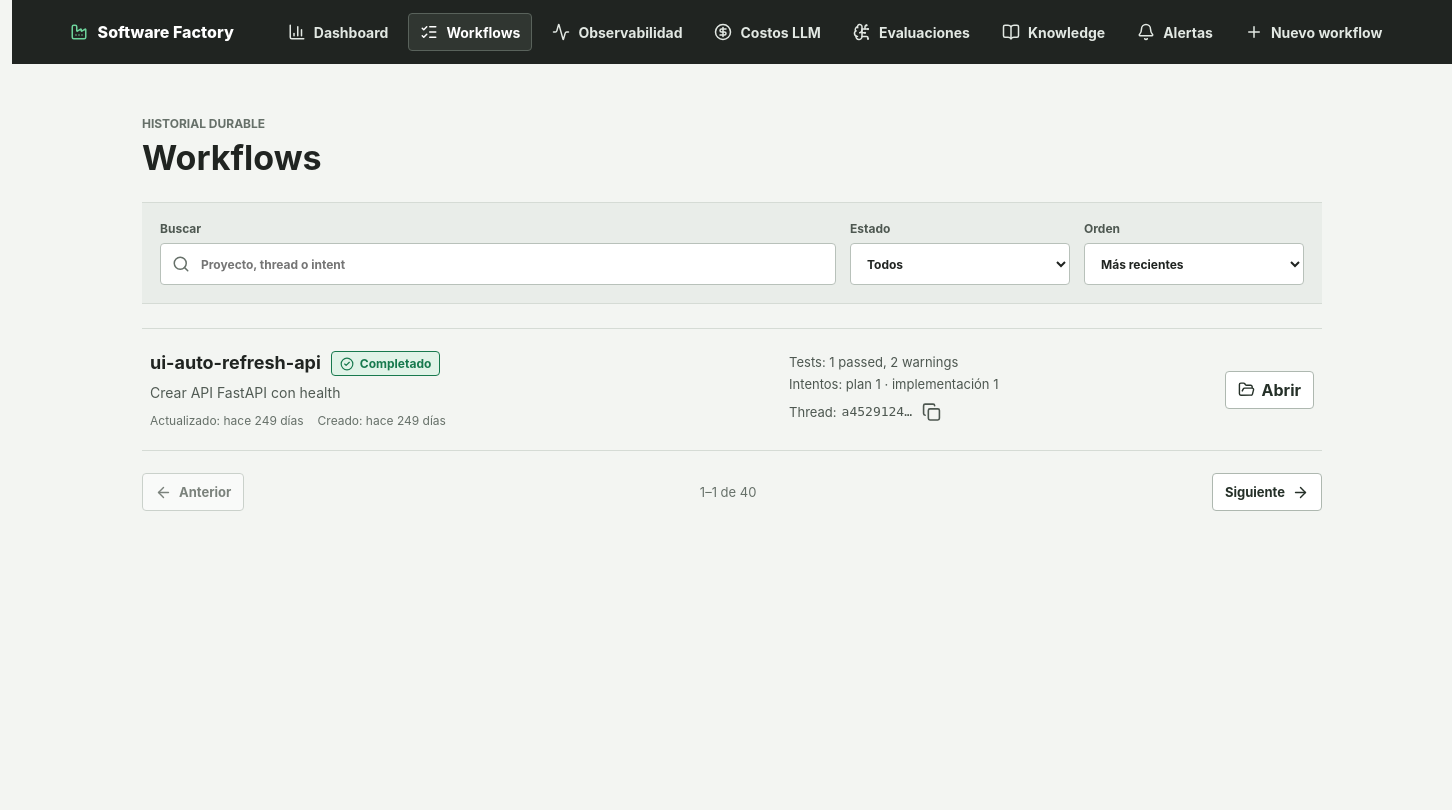
Test: workflow list › moves to next and previous pages
Click the button "Siguiente".
click(1267, 492)  # box x1=1212 y1=473 x2=1322 y2=511
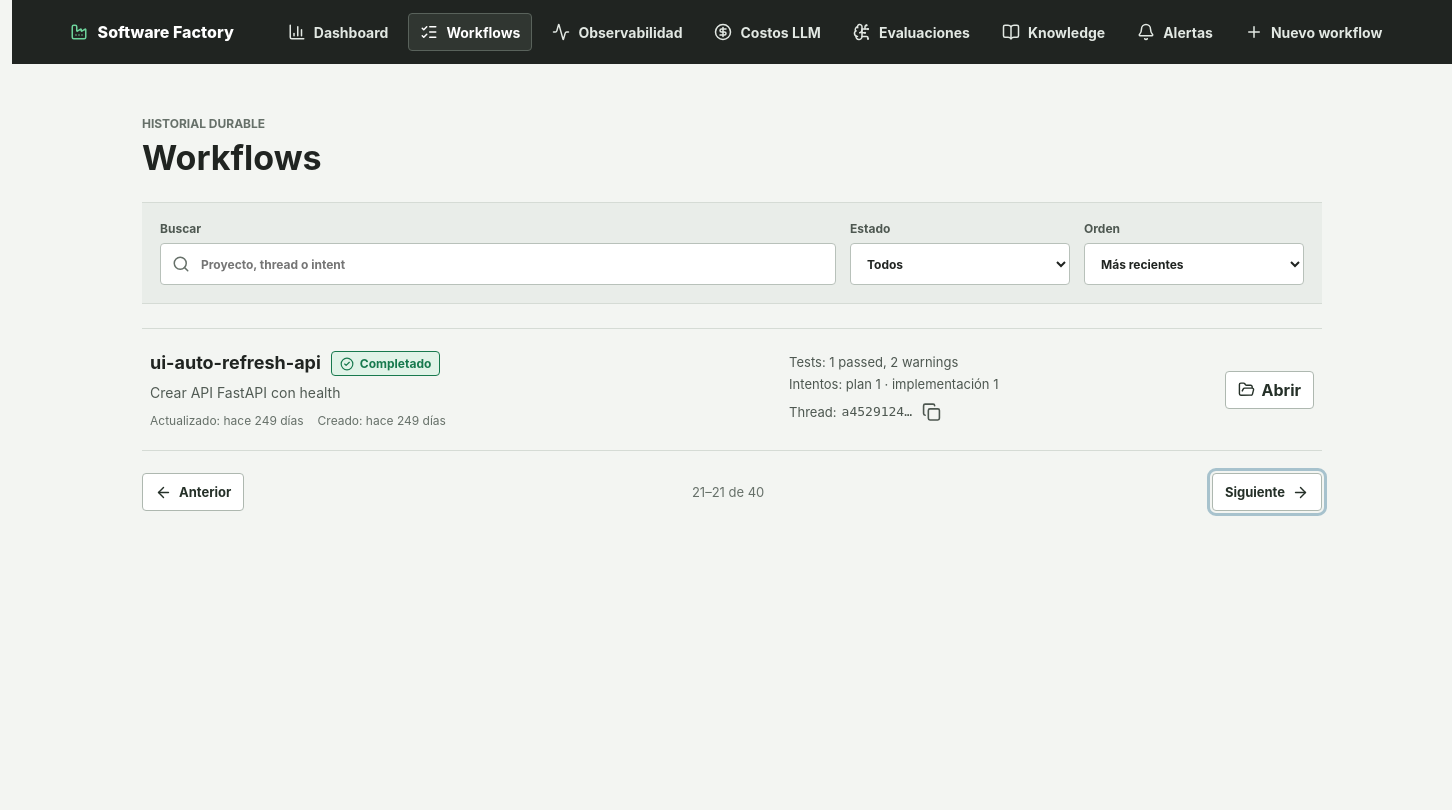
Click the button "Anterior".
click(193, 492)  # box x1=142 y1=473 x2=244 y2=511
(page scrolled)
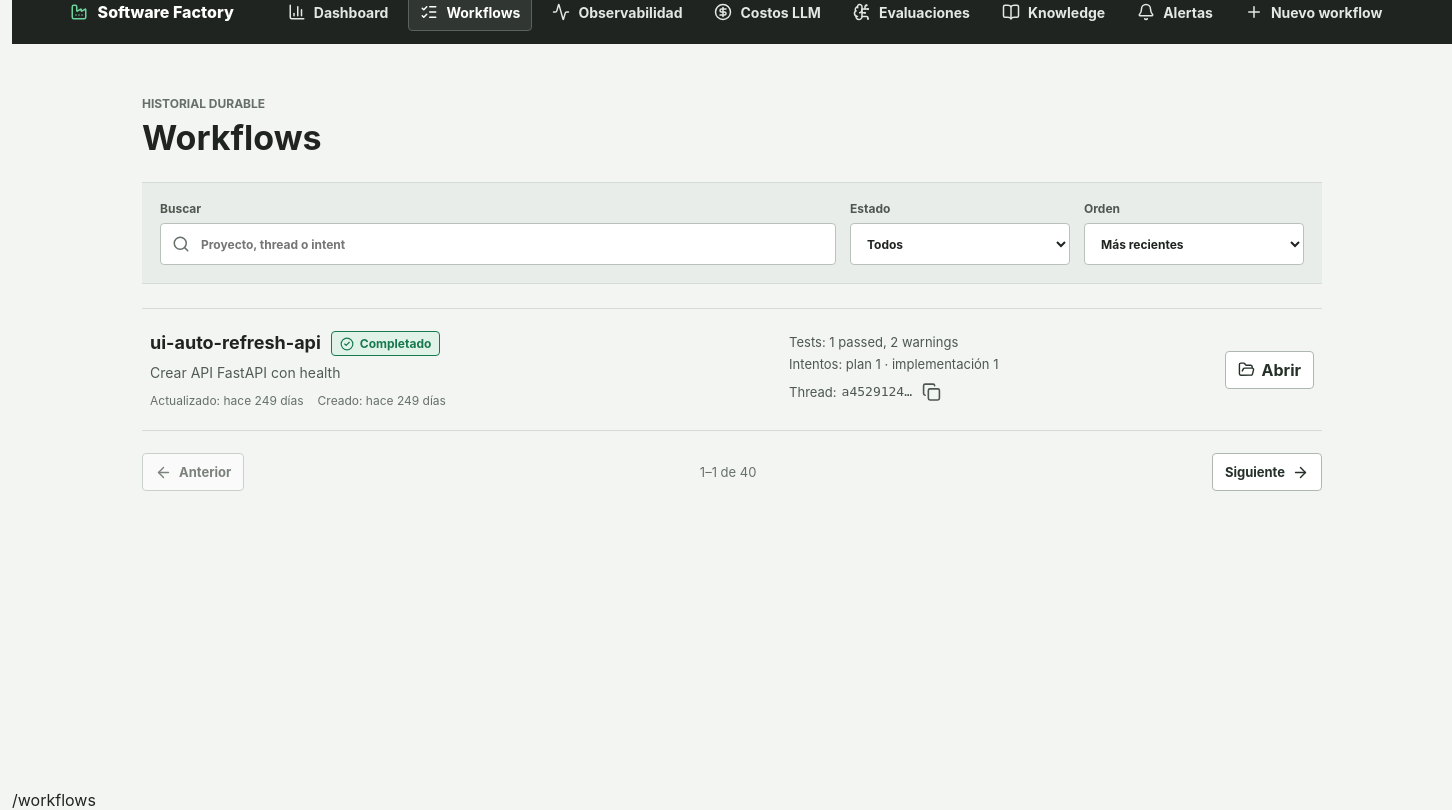
Result: the text with test id "location" reads "/workflows" at x1=12 y1=790 x2=96 y2=809
